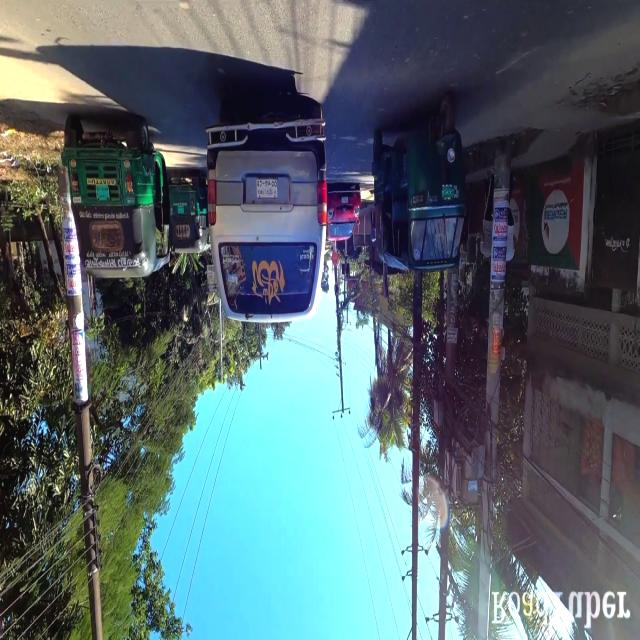red: (329, 182, 361, 244)
silver: (203, 104, 327, 322)
